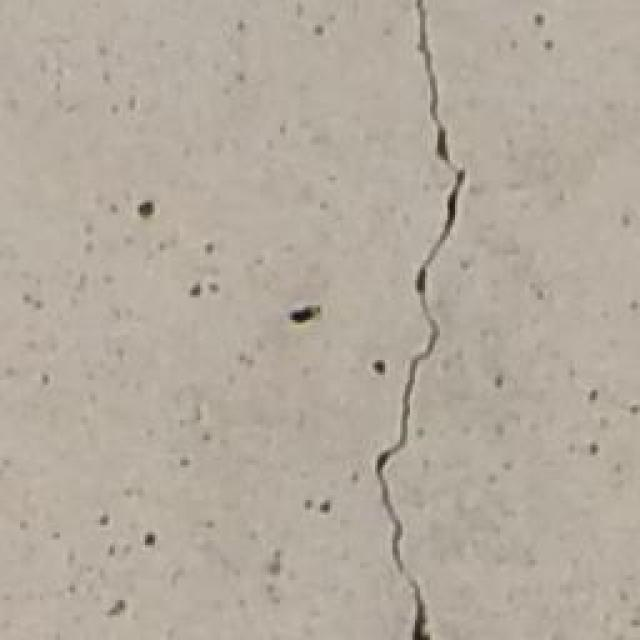concrete-crack: (375, 0, 468, 640)
